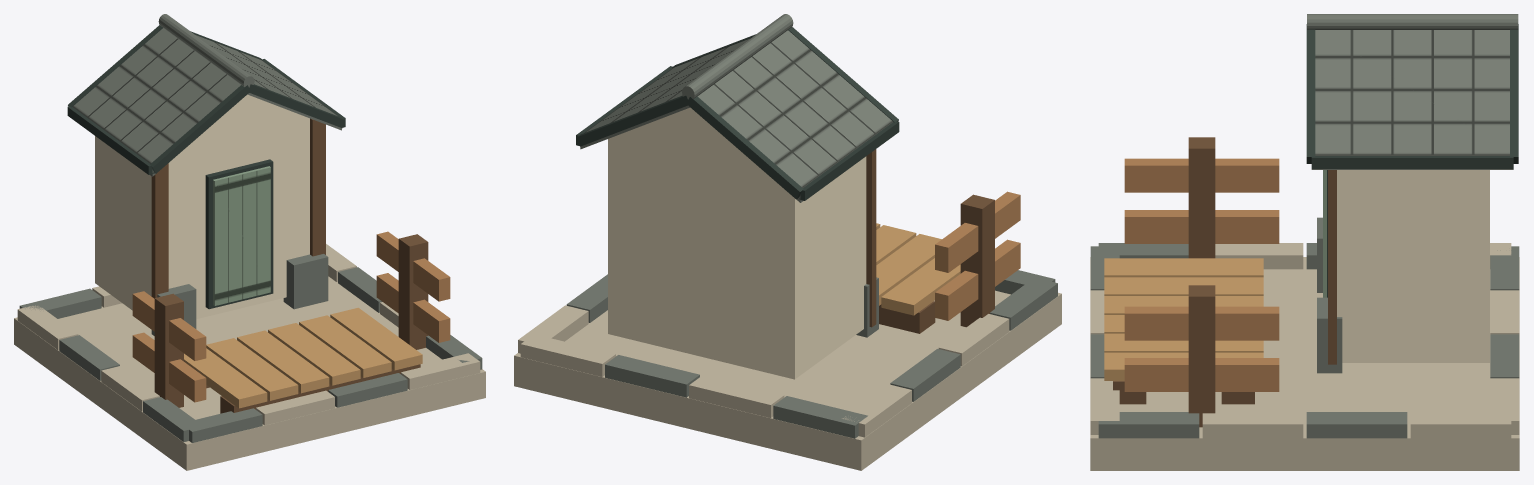
Rendered from destination-normal.glb.
The picture shows the model from 3 angles, left to right: view 1: azimuth 30°, elevation 25°; view 2: azimuth 150°, elevation 25°; view 3: azimuth 270°, elevation 25°; orthographic projection. The views are drawn at different scales.
Parts seen in each view (by area): view 1: Mesh_ReceivingHouse_FacilityDetailPaint, Mesh_destination-normal_FacilityDetailPaint, Mesh_ReceivingPallet_FacilityDetailPaint; view 2: Mesh_ReceivingHouse_FacilityDetailPaint, Mesh_destination-normal_FacilityDetailPaint, Mesh_ReceivingPallet_FacilityDetailPaint; view 3: Mesh_destination-normal_FacilityDetailPaint, Mesh_ReceivingHouse_FacilityDetailPaint, Mesh_ReceivingPallet_FacilityDetailPaint.
Part boxes in pixels (x1,y1,x2,y2): Mesh_ReceivingHouse_FacilityDetailPaint: (67,14,345,335); Mesh_destination-normal_FacilityDetailPaint: (14,231,485,470); Mesh_ReceivingPallet_FacilityDetailPaint: (184,307,422,413); Mesh_ReceivingHouse_FacilityDetailPaint: (576,14,899,379); Mesh_destination-normal_FacilityDetailPaint: (514,191,1061,470); Mesh_ReceivingPallet_FacilityDetailPaint: (876,223,960,333); Mesh_destination-normal_FacilityDetailPaint: (1090,137,1519,470); Mesh_ReceivingHouse_FacilityDetailPaint: (1306,14,1518,373); Mesh_ReceivingPallet_FacilityDetailPaint: (1104,258,1263,404).
Bounding box in the file's own units: 0.8333 × 0.7836 × 0.8333.
Materials: 2 (2 with a texture image).
